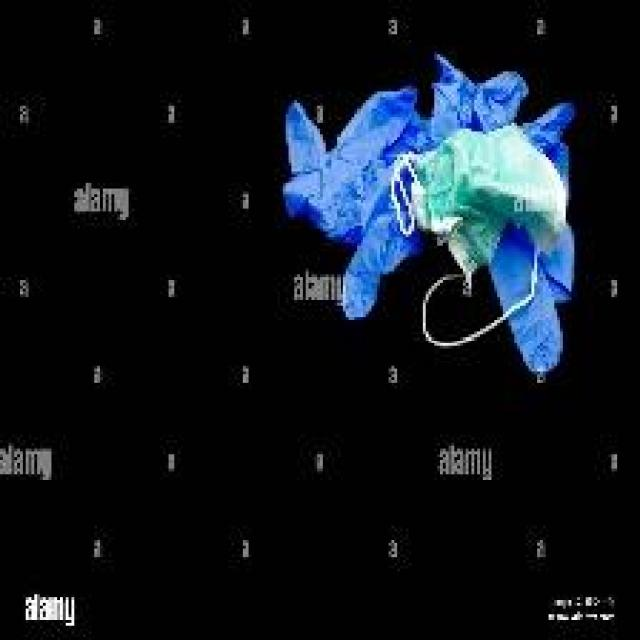Mask: (400, 136, 584, 269)
